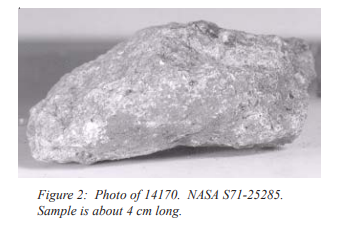Breccia: (23, 12, 307, 171)
